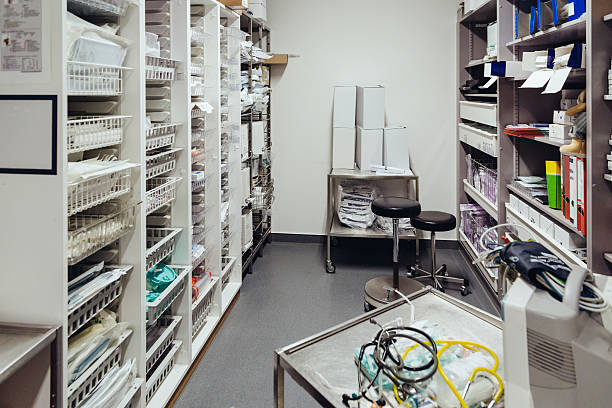cabinet: (64, 1, 192, 404), (511, 1, 609, 280), (188, 3, 243, 347), (454, 6, 505, 308), (243, 3, 276, 259)
chair: (370, 195, 419, 307), (421, 207, 469, 292)
computer: (490, 253, 612, 408)
utility_cart: (267, 289, 509, 405), (320, 167, 427, 273)
